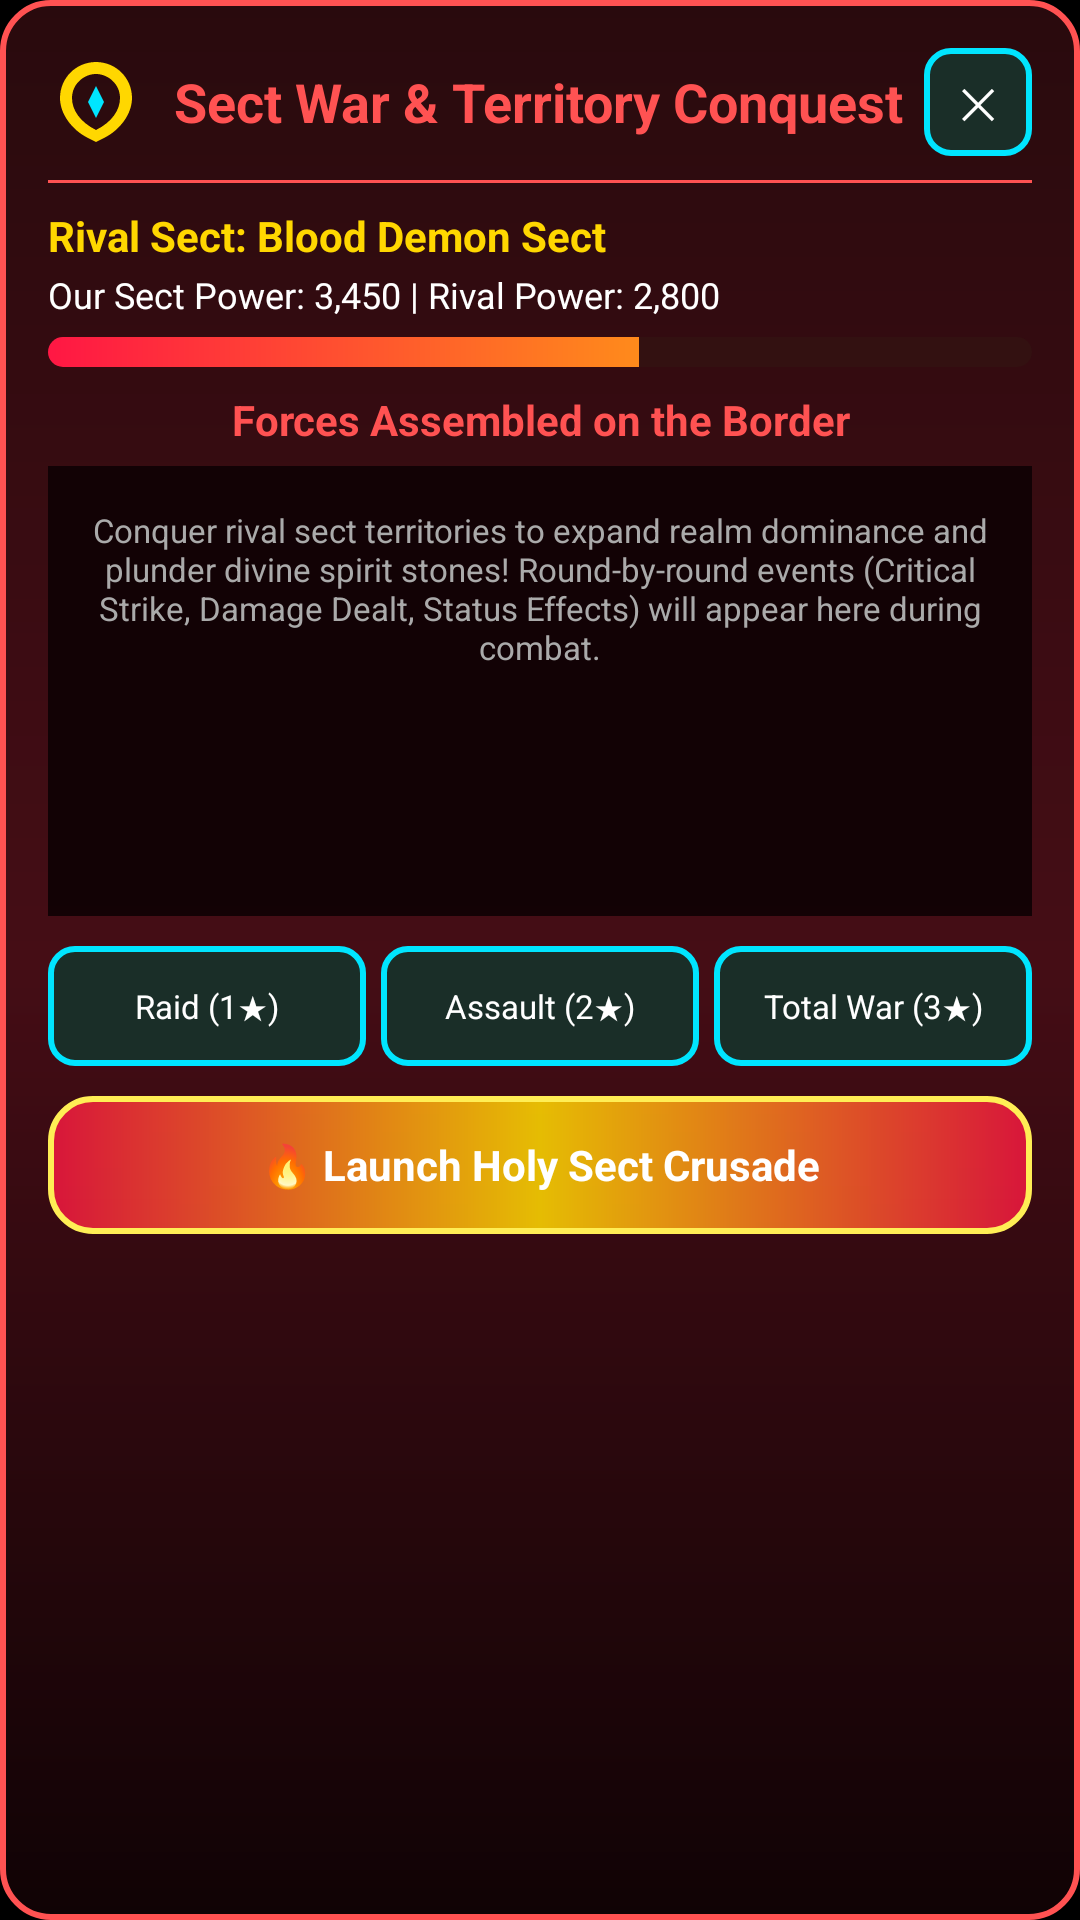

Named icons in this screenshot (1080 × 1920) and their bounding boxes, bbox(x1, y1, x2, y2):
Sect Crest: bbox(60, 62, 132, 142)
